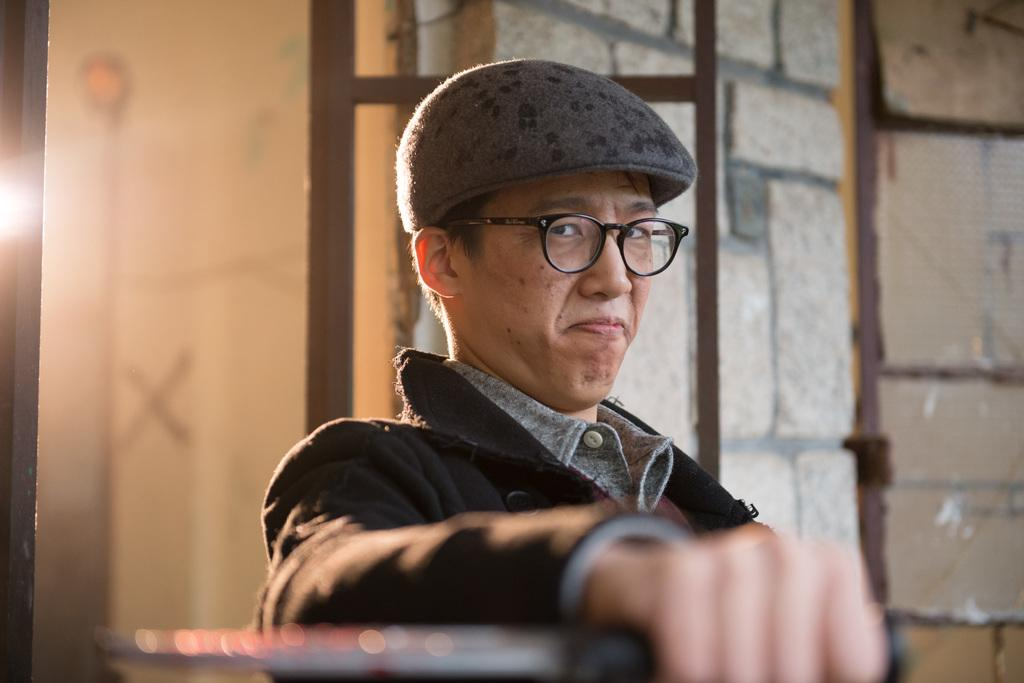Hat: (396, 57, 698, 230)
